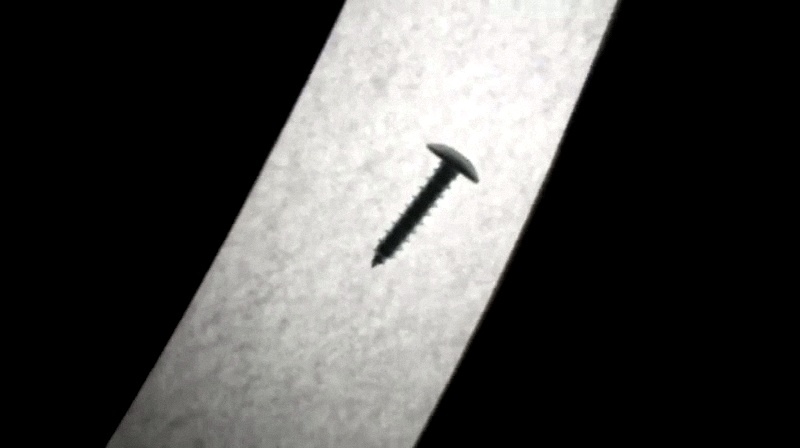S003: (364, 138, 484, 273)
